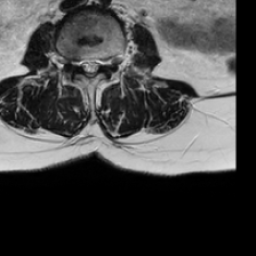CCS_stenosis: (86, 51, 94, 83)
LFS_severe_stenosis: (103, 52, 109, 72)
LLS_normal: (94, 53, 102, 76)
RFS_severe_stenosis: (71, 51, 80, 71)
RLS_normal: (80, 53, 88, 75)
